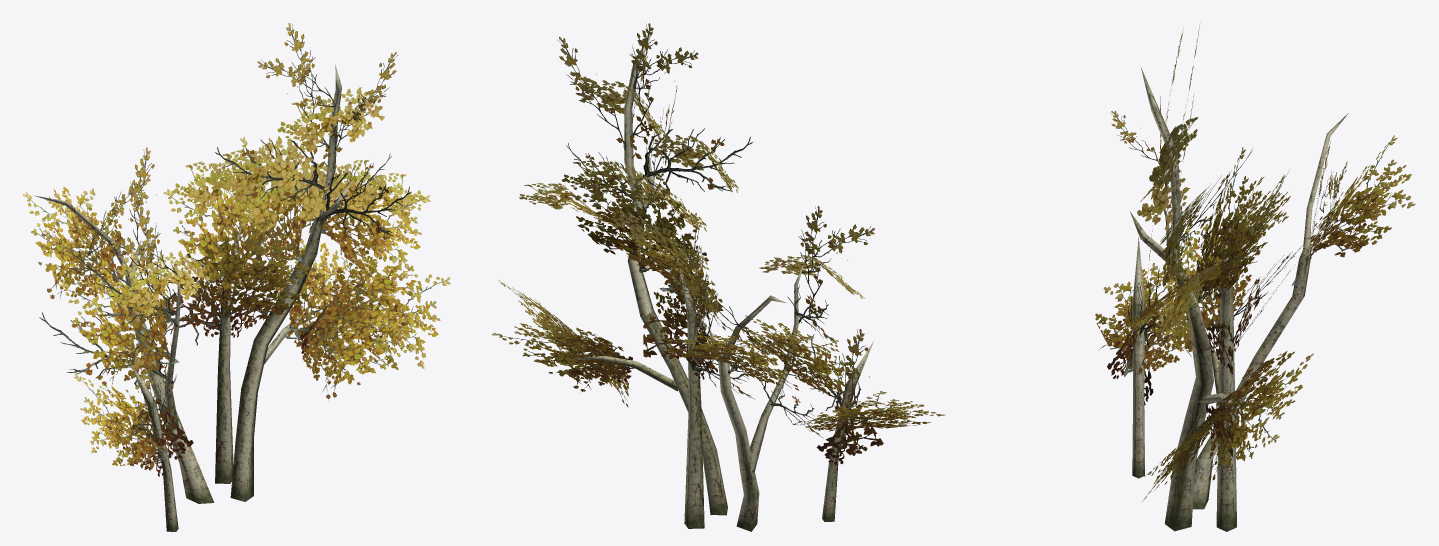
The model's file is yw_xingzilin_baihuashu01.FBX.
The picture shows the model from 3 angles, left to right: view 1: azimuth 30°, elevation 25°; view 2: azimuth 150°, elevation 25°; view 3: azimuth 270°, elevation 25°; orthographic projection. The views are drawn at different scales.
Visible parts, largest first — view 1: yw_xingzilin_baihuashu01; view 2: yw_xingzilin_baihuashu01; view 3: yw_xingzilin_baihuashu01.
Part boxes in pixels (box(x1,y1,x2,y2)): yw_xingzilin_baihuashu01: box(23, 23, 450, 531); yw_xingzilin_baihuashu01: box(492, 23, 945, 531); yw_xingzilin_baihuashu01: box(1095, 23, 1415, 531).
Bounding box in the file's own units: 949 × 1028 × 741.
Materials: 1 (1 with a texture image).
